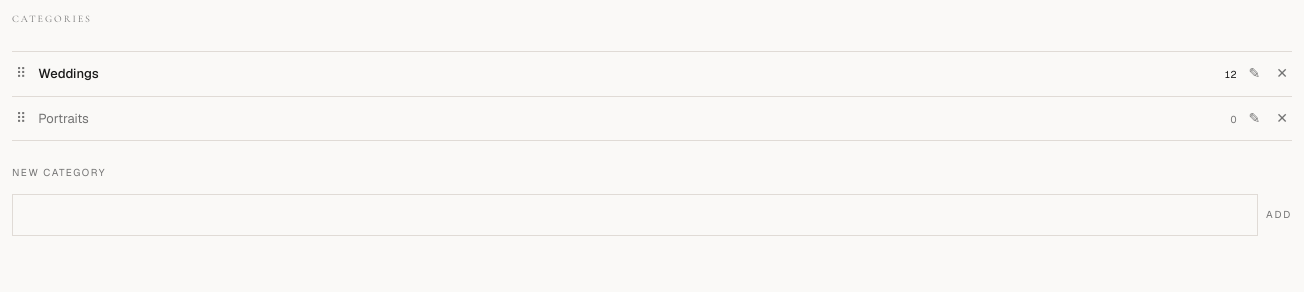
CategoryList › shows the error and a sign-in link when the session expired
Type "Travel" into the field labelled "New category" at [635, 215], box [12,194,1258,236]
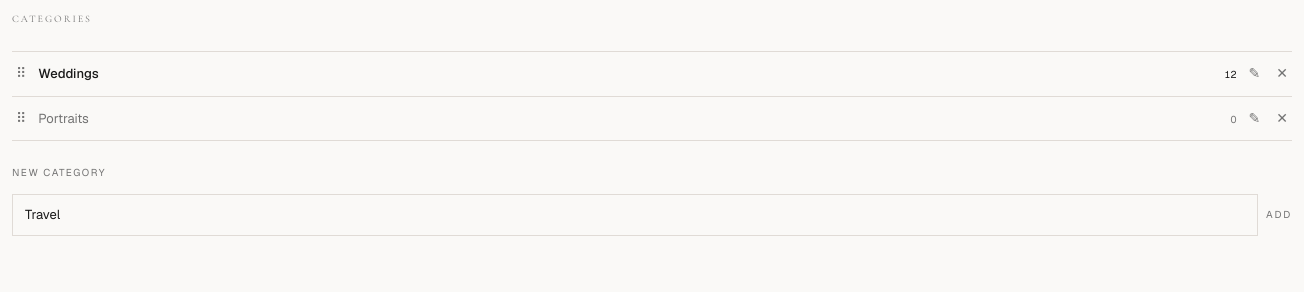
Click the button "Add" at [1279, 215], box [1266,194,1292,236]
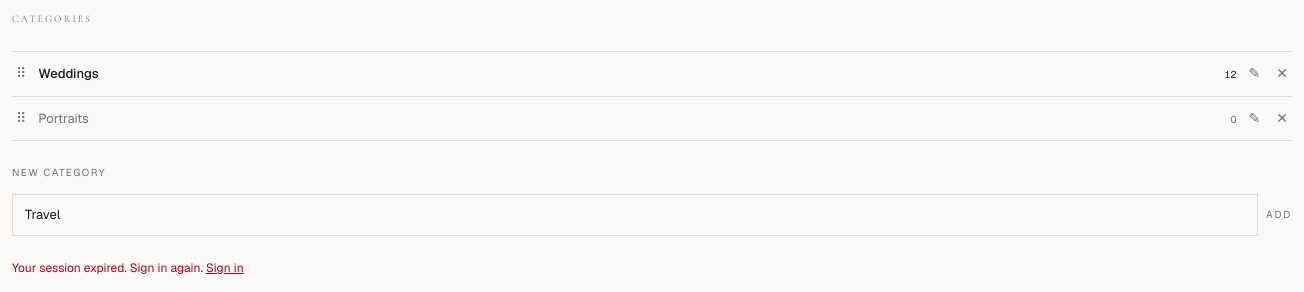
Now the text "Your session expired. Sign in again." is shown, box [12,260,203,276]
